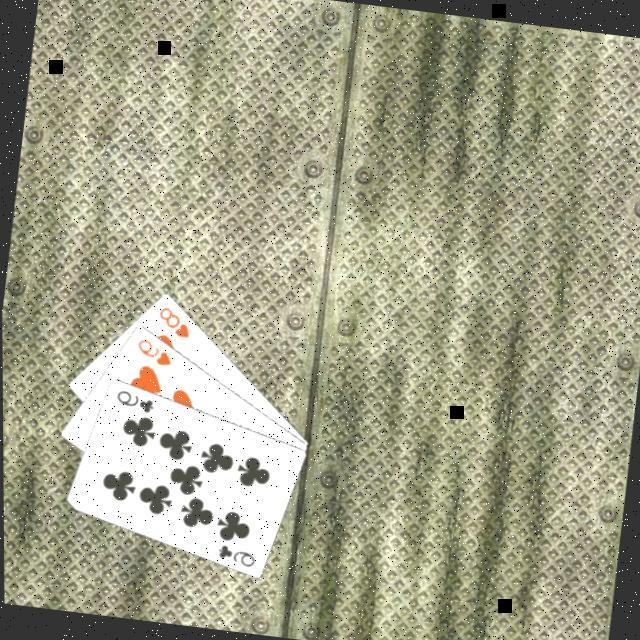8H: (150, 303, 192, 342)
9C: (108, 386, 156, 416), (208, 540, 256, 570)
9H: (129, 334, 174, 370)
